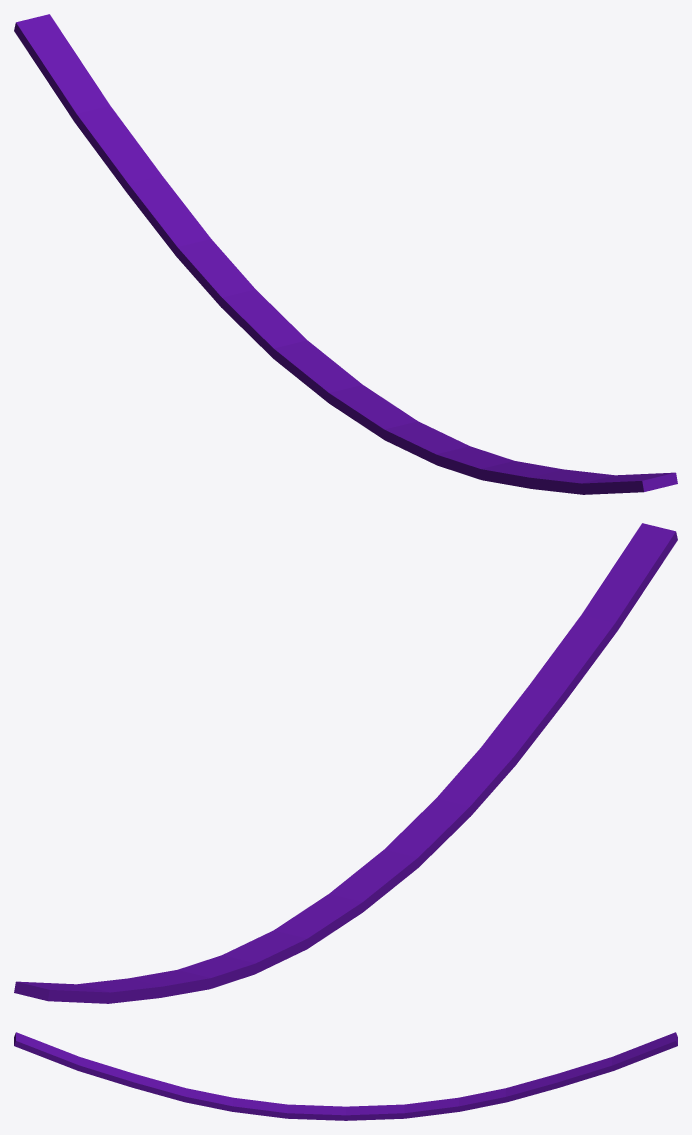
File: Tape_7.001_chunks.fbx
3 views of the same model, one above another, from view 1: azimuth 30°, elevation 25°; view 2: azimuth 150°, elevation 25°; view 3: azimuth 270°, elevation 25° (orthographic). The views are drawn at different scales.
Visible parts, largest first — view 1: Tape_7.001_0, Tape_7.001_3, Tape_7.001_2, Tape_7.001_1; view 2: Tape_7.001_3, Tape_7.001_0, Tape_7.001_2, Tape_7.001_1; view 3: Tape_7.001_0, Tape_7.001_3, Tape_7.001_2, Tape_7.001_1.
Part boxes in pixels (x1=…): Tape_7.001_0: x1=14, y1=14, x2=306, y2=372; Tape_7.001_3: x1=409, y1=423, x2=677, y2=494; Tape_7.001_2: x1=291, y1=366, x2=421, y2=457; Tape_7.001_1: x1=297, y1=330, x2=368, y2=388; Tape_7.001_3: x1=389, y1=523, x2=677, y2=845; Tape_7.001_0: x1=14, y1=920, x2=331, y2=1003; Tape_7.001_2: x1=324, y1=831, x2=454, y2=937; Tape_7.001_1: x1=264, y1=889, x2=334, y2=935; Tape_7.001_0: x1=378, y1=1032, x2=677, y2=1116; Tape_7.001_3: x1=14, y1=1032, x2=283, y2=1116; Tape_7.001_2: x1=262, y1=1101, x2=378, y2=1120; Tape_7.001_1: x1=340, y1=1107, x2=423, y2=1120.
Bounding box in the file's own units: 24.08 × 103 × 776.
